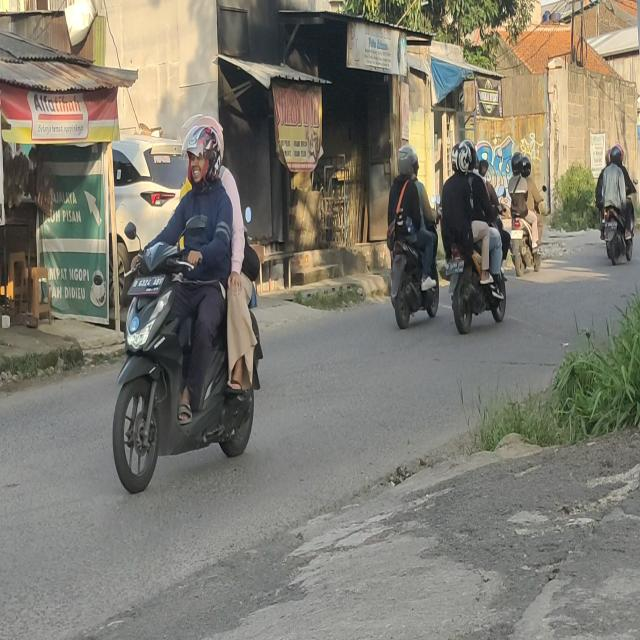helmet: (183, 114, 223, 158), (190, 127, 219, 179), (452, 145, 470, 172), (398, 146, 414, 176), (463, 139, 476, 169), (512, 153, 523, 174), (610, 146, 620, 165), (523, 157, 531, 178)
no-helmet: (480, 160, 490, 179)
